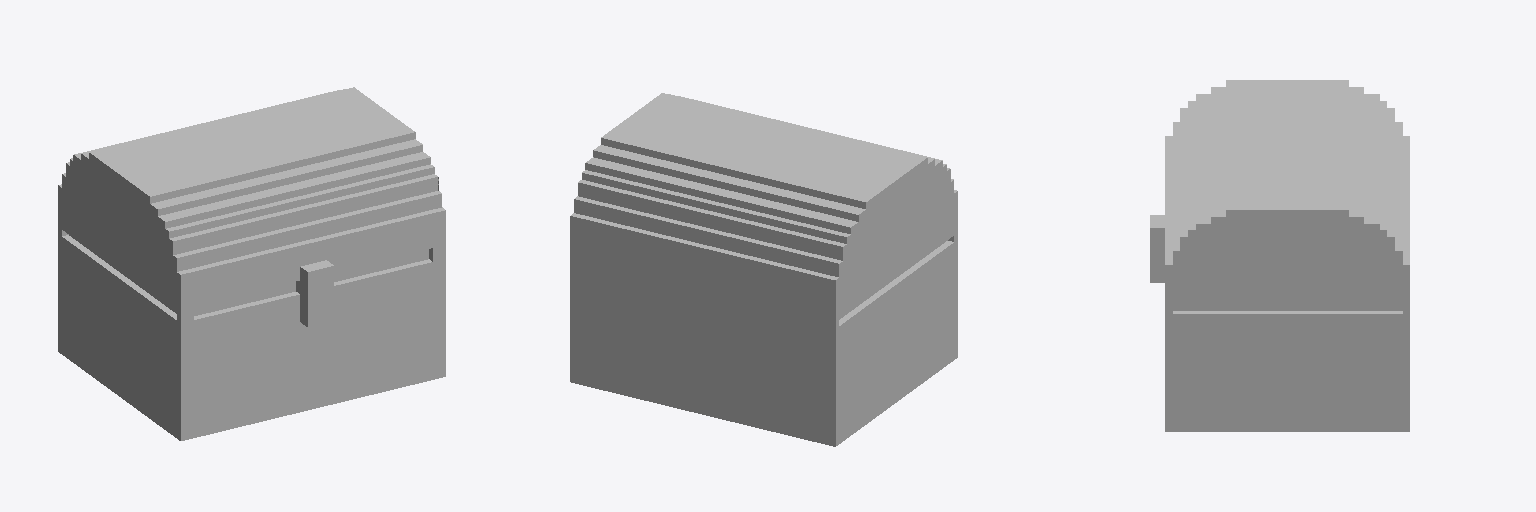
File: chest.obj
3 renders of one model, left to right at view 1: azimuth 30°, elevation 25°; view 2: azimuth 150°, elevation 25°; view 3: azimuth 270°, elevation 25°, orthographic.
Parts seen in each view (by area): view 1: object 1; view 2: object 1; view 3: object 1.
Boxes of the visible parts, x1=… form: object 1: x1=58, y1=87, x2=445, y2=440; object 1: x1=570, y1=93, x2=957, y2=446; object 1: x1=1150, y1=80, x2=1409, y2=431.
Bounding box in the file's own units: 4 × 3.2 × 3.4.